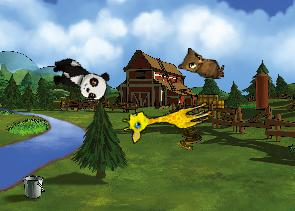giraffe: (119, 90, 214, 145)
owl: (177, 46, 227, 79)
panda: (46, 54, 113, 104)
